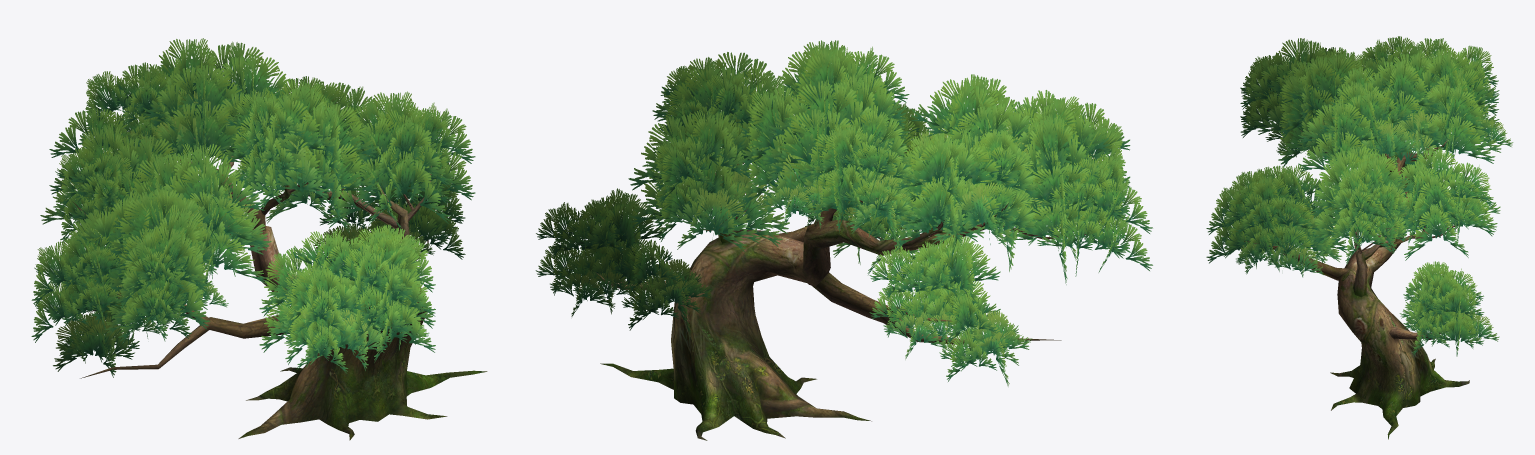
File: 2002_Plant_tree_01.FBX
The picture shows the model from 3 angles, left to right: view 1: azimuth 30°, elevation 25°; view 2: azimuth 150°, elevation 25°; view 3: azimuth 270°, elevation 25°; orthographic projection. The views are drawn at different scales.
Parts seen in each view (by area): view 1: 2002_Plant_songye_01, 2002_Plant_shupi_01; view 2: 2002_Plant_songye_01, 2002_Plant_shupi_01; view 3: 2002_Plant_songye_01, 2002_Plant_shupi_01.
Boxes of the visible parts, left/top/right/bottom form: 2002_Plant_songye_01: left=31, top=38, right=475, bottom=377; 2002_Plant_shupi_01: left=72, top=138, right=487, bottom=440; 2002_Plant_songye_01: left=535, top=40, right=1152, bottom=386; 2002_Plant_shupi_01: left=596, top=145, right=1085, bottom=440; 2002_Plant_songye_01: left=1206, top=36, right=1513, bottom=356; 2002_Plant_shupi_01: left=1244, top=110, right=1469, bottom=439.
Size of the model in its own units: 3241 by 2166 by 2133.
